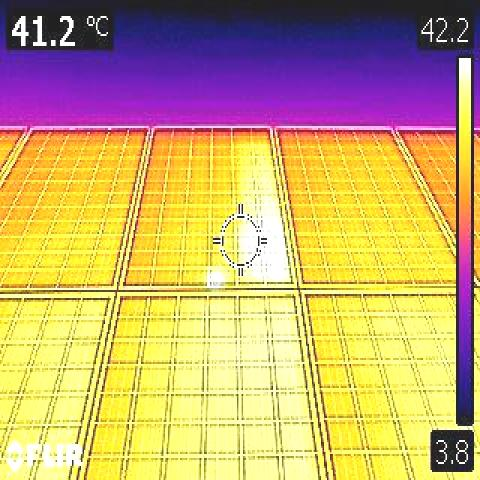fault: (261, 216, 284, 284), (204, 266, 225, 290)
